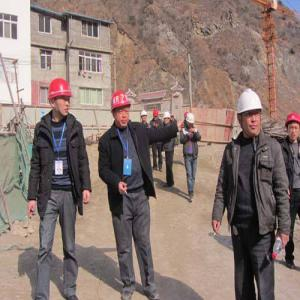red: (49, 79, 71, 117), (111, 90, 131, 127), (286, 112, 300, 144), (153, 108, 160, 120)
white: (238, 90, 262, 138), (187, 114, 195, 128), (163, 112, 171, 126), (141, 111, 148, 123)
